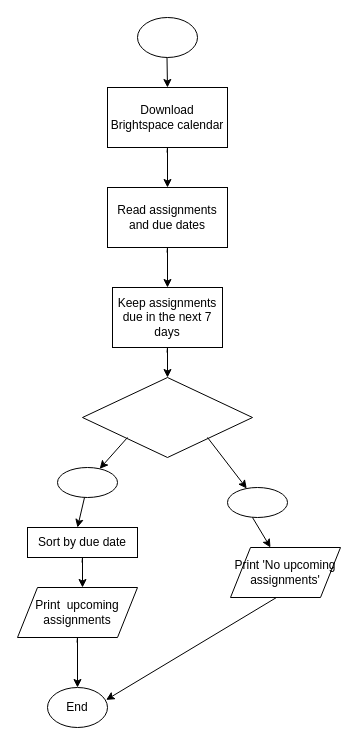
This 358x745 diagram has some shape labels left out. Here are the shapes that lost their labels. From the top down, the centre of each, then its label:
the point at 167,37: Start
the point at 167,417: Any assignments found?
the point at 87,482: Yes
the point at 257,502: No
